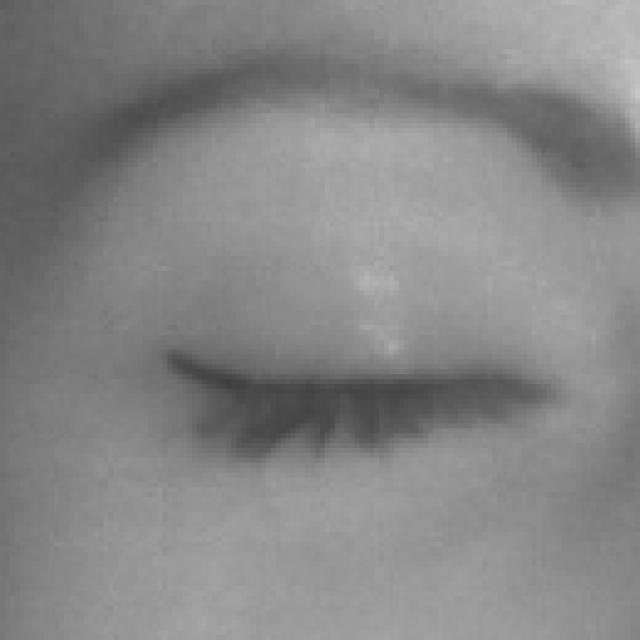close: (33, 14, 640, 577)
